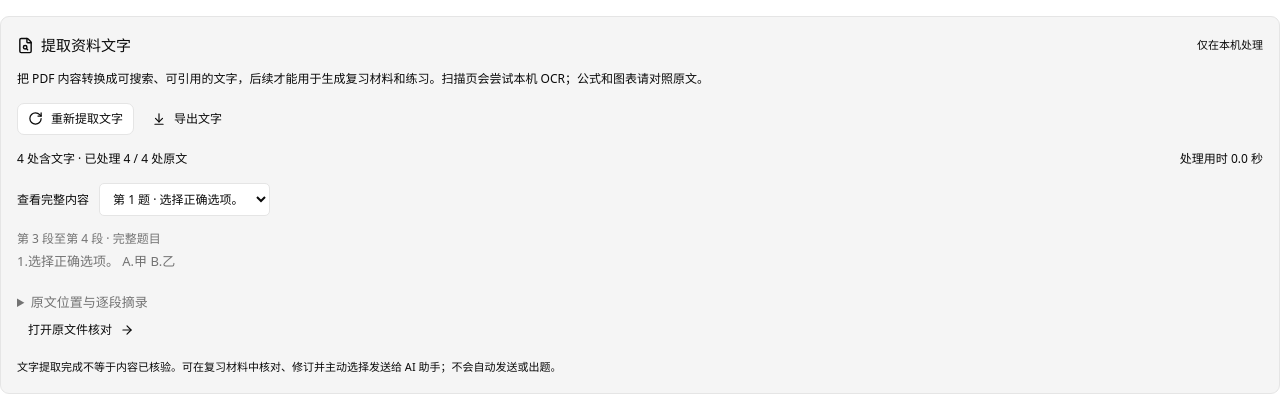
Test case: lets the reader select the introductory raw content after defaulting to a complete question
The image size is (1280, 411).
Step 1. Select "导读：背景材料" in the dropdown labelled "查看完整内容" → x=184, y=200, box 99,183 -> 270,216
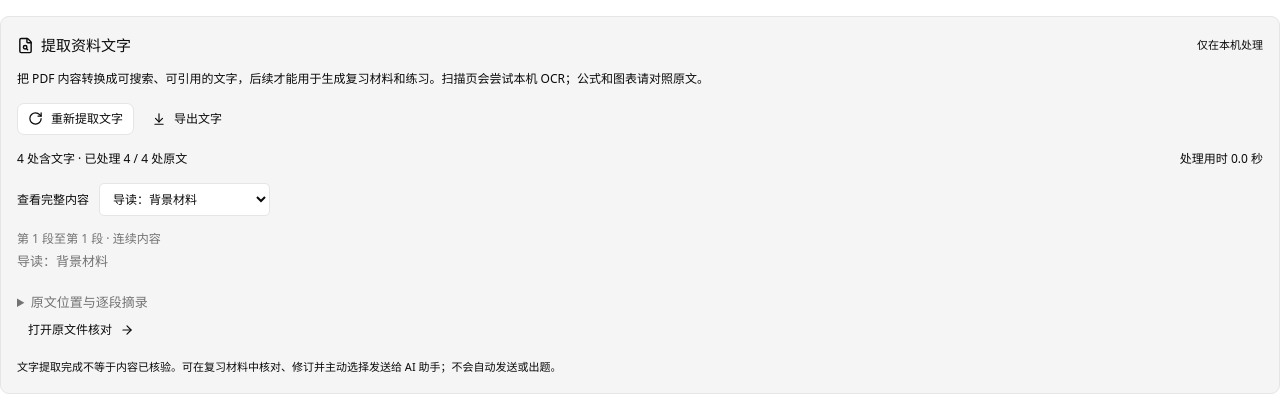
Result: the element with class "extraction-group" shows "导读：背景材料" at 17,252 -> 108,270
